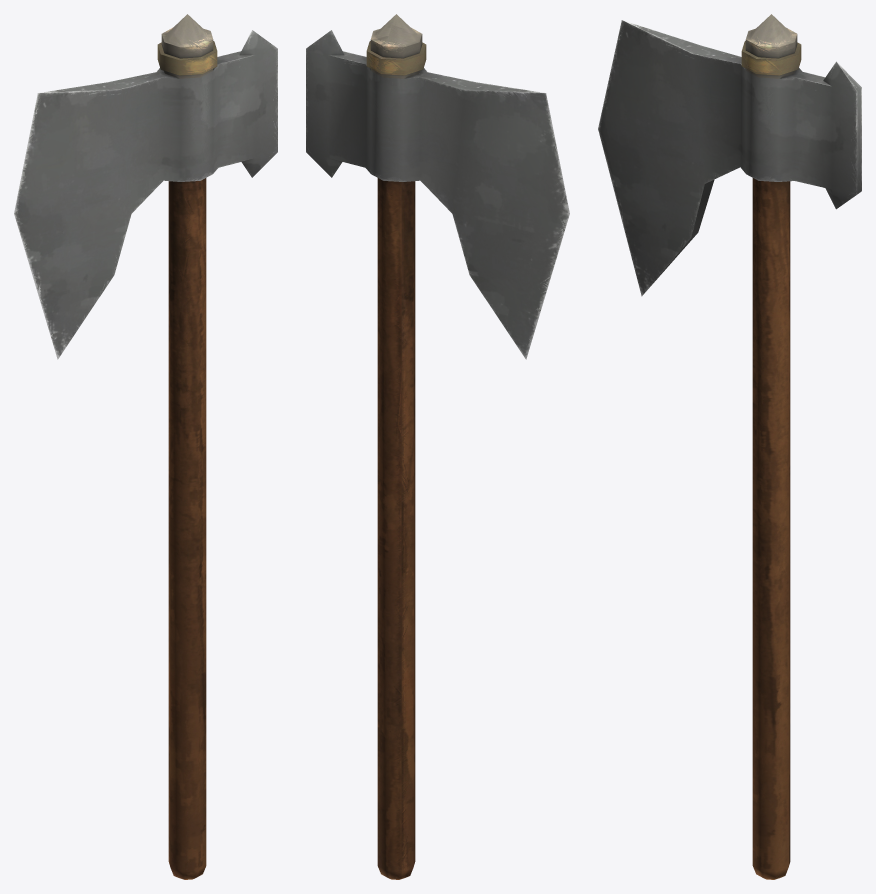
File: Axe.fbx
The picture shows the model from 3 angles, left to right: view 1: azimuth 30°, elevation 25°; view 2: azimuth 150°, elevation 25°; view 3: azimuth 330°, elevation 25°; orthographic projection.
Parts seen in each view (by area): view 1: Axe; view 2: Axe; view 3: Axe.
Boxes of the visible parts, box(x1,y1,x2,y2) form: Axe: box(14, 14, 277, 879); Axe: box(306, 14, 569, 879); Axe: box(598, 14, 861, 879).
Size of the model in its own units: 32.18 by 101 by 6.55.
